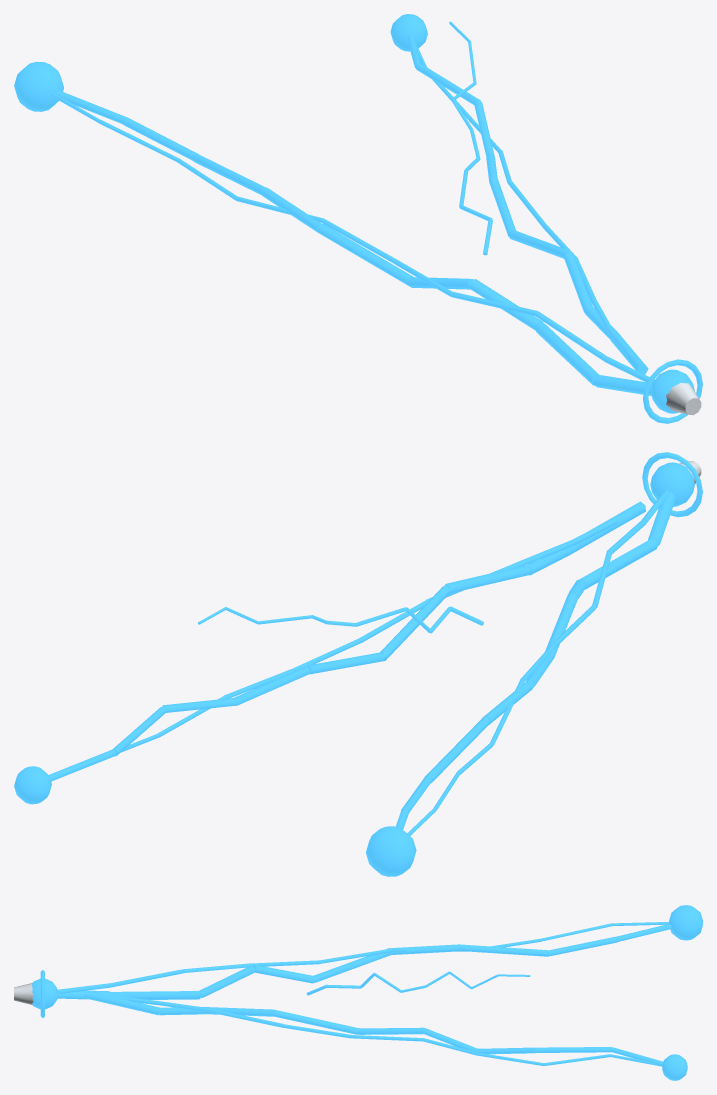
Rendered from arc_chain.glb.
The picture shows the model from 3 angles, top to bottom: view 1: azimuth 30°, elevation 25°; view 2: azimuth 150°, elevation 25°; view 3: azimuth 270°, elevation 25°; orthographic projection. The views are drawn at different scales.
Visible parts, largest first — view 1: MainHalo, ArcChain, ForkAHalo, Main, ForkA, ForkB; view 2: ForkAHalo, ArcChain, MainHalo, ForkA, Main, ForkB; view 3: MainHalo, ForkAHalo, ArcChain, ForkA, Main, ForkB.
Part boxes in pixels (x1=…): MainHalo: x1=56, y1=90, x2=652, y2=395; ArcChain: x1=14, y1=14, x2=702, y2=423; ForkAHalo: x1=407, y1=35, x2=648, y2=374; Main: x1=51, y1=93, x2=654, y2=383; ForkA: x1=415, y1=42, x2=644, y2=371; ForkB: x1=449, y1=21, x2=492, y2=255; ForkAHalo: x1=49, y1=501, x2=645, y2=781; ArcChain: x1=14, y1=452, x2=702, y2=876; MainHalo: x1=396, y1=492, x2=676, y2=829; ForkA: x1=120, y1=511, x2=628, y2=752; Main: x1=407, y1=490, x2=669, y2=835; ForkB: x1=198, y1=606, x2=483, y2=633; MainHalo: x1=57, y1=923, x2=671, y2=999; ForkAHalo: x1=84, y1=990, x2=663, y2=1065; ArcChain: x1=14, y1=905, x2=702, y2=1080; ForkA: x1=100, y1=994, x2=662, y2=1066; Main: x1=57, y1=922, x2=669, y2=993; ForkB: x1=306, y1=971, x2=530, y2=995.
Size of the model in its own units: 2.84 by 0.8038 by 6.
